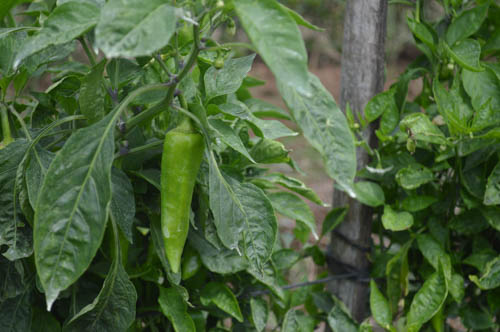ChiliPepper: (159, 131, 202, 279)
